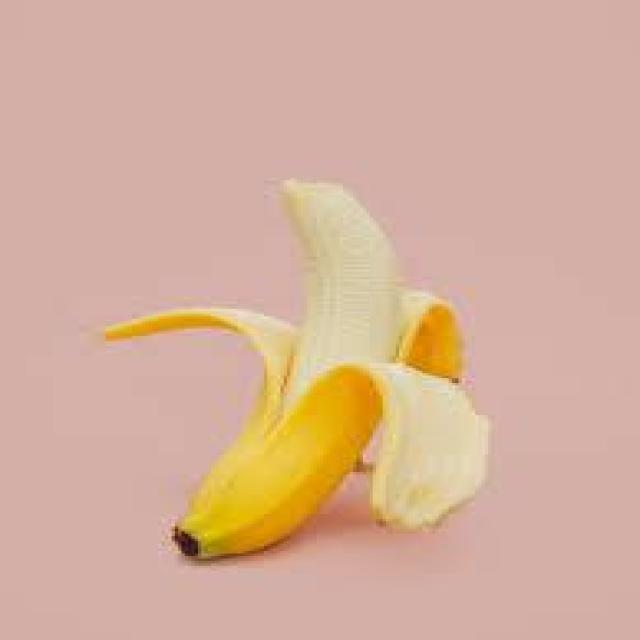Banana: (102, 178, 495, 566)
